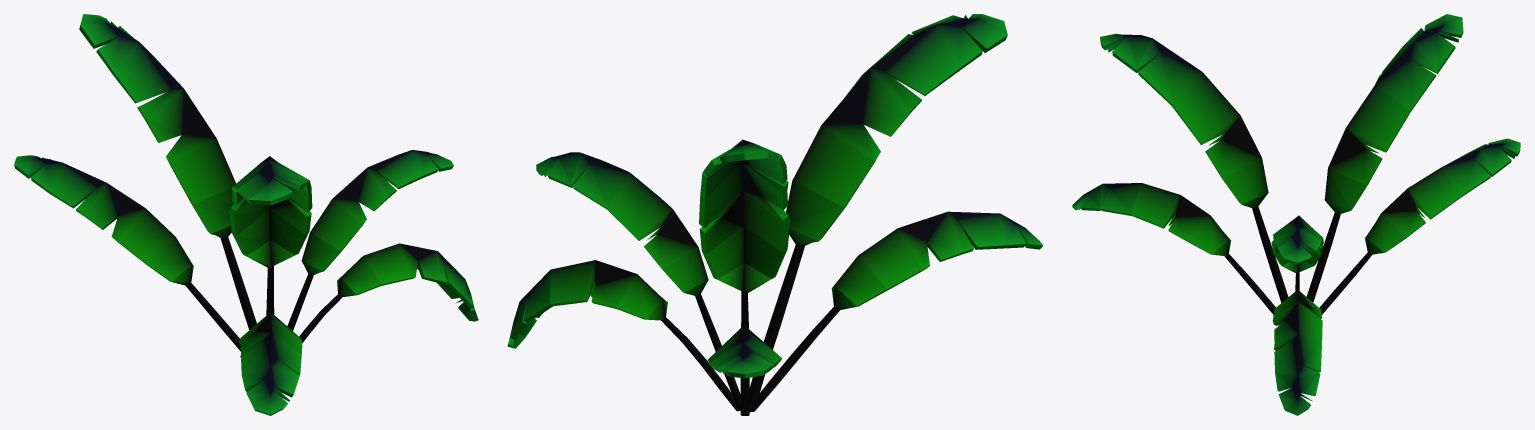
The model's file is ShrubFernTall02.fbx.
3 views of the same model, side by side, from view 1: azimuth 30°, elevation 25°; view 2: azimuth 150°, elevation 25°; view 3: azimuth 270°, elevation 25° (orthographic). The views are drawn at different scales.
Visible parts, largest first — view 1: ShrubFernTall02_LOD0; view 2: ShrubFernTall02_LOD0; view 3: ShrubFernTall02_LOD0.
Boxes of the visible parts, box(x1,y1,x2,y2) form: ShrubFernTall02_LOD0: box(14, 14, 478, 415); ShrubFernTall02_LOD0: box(507, 14, 1043, 415); ShrubFernTall02_LOD0: box(1072, 14, 1520, 415).
Size of what is drawn, in the model's own units: 229 by 203 by 297.
